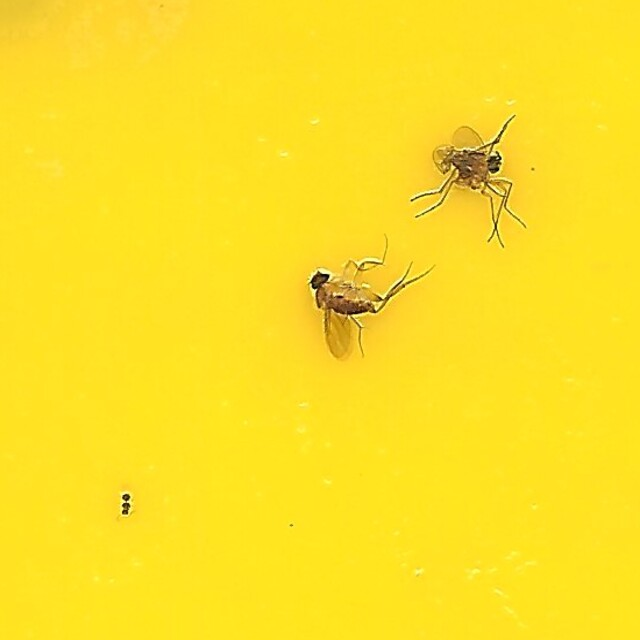Brachycera: (311, 241, 428, 359), (413, 115, 524, 239)
Hymenoptera: (116, 487, 136, 525)
